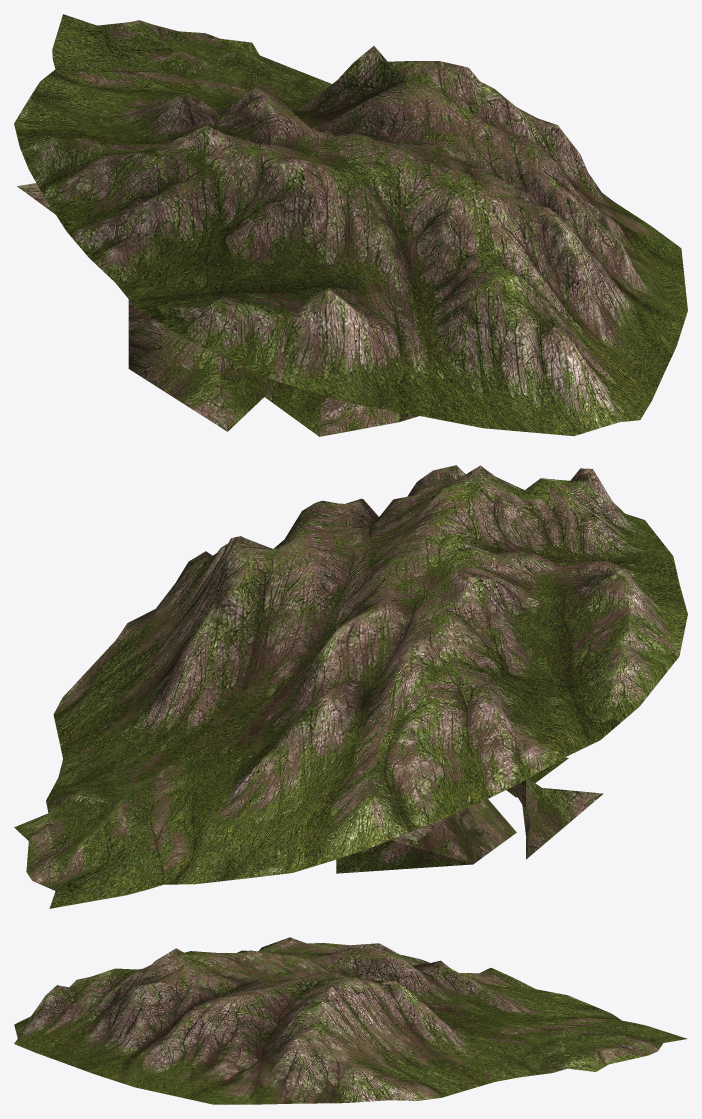
Rendered from Terrain.FBX.
3 views of the same model, one above another, from view 1: azimuth 30°, elevation 25°; view 2: azimuth 150°, elevation 25°; view 3: azimuth 270°, elevation 25° (orthographic). The views are drawn at different scales.
Parts seen in each view (by area): view 1: Hills001, Object013; view 2: Hills001, Plane009, Object013; view 3: Hills001.
Part boxes in pixels (box(x1,y1,x2,y2)): Hills001: box(14, 14, 687, 436); Object013: box(17, 183, 418, 436); Hills001: box(14, 465, 687, 908); Plane009: box(336, 799, 516, 873); Object013: box(401, 757, 603, 859); Hills001: box(14, 937, 687, 1104).
Bounding box in the file's own units: 227 × 111 × 468.
